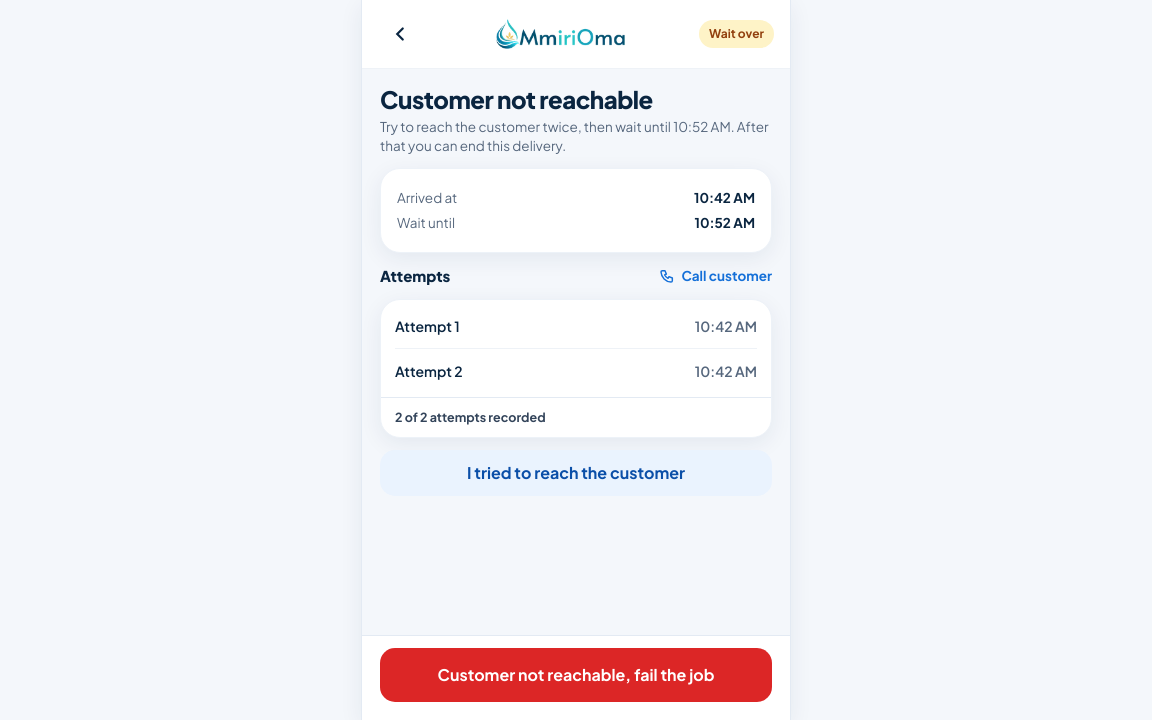
Test: Customer not reachable (U3) › asks before failing, then ends the job on the failed screen
The image size is (1152, 720).
Step 1. Click the button "Customer not reachable, fail the job" → (576, 675), box [380,648,772,702]
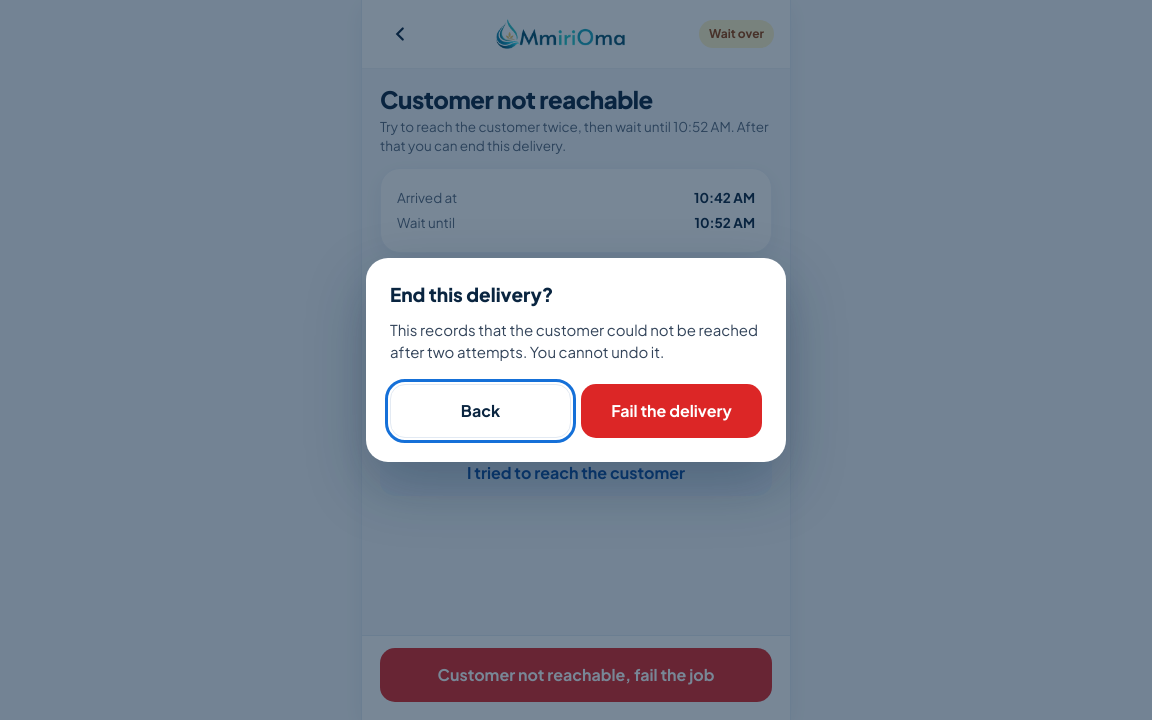
Now the heading "End this delivery?" is shown, box [390,282,554,306]
Step 2. Click the button "Fail the delivery" → (672, 411), box [581,384,762,438]
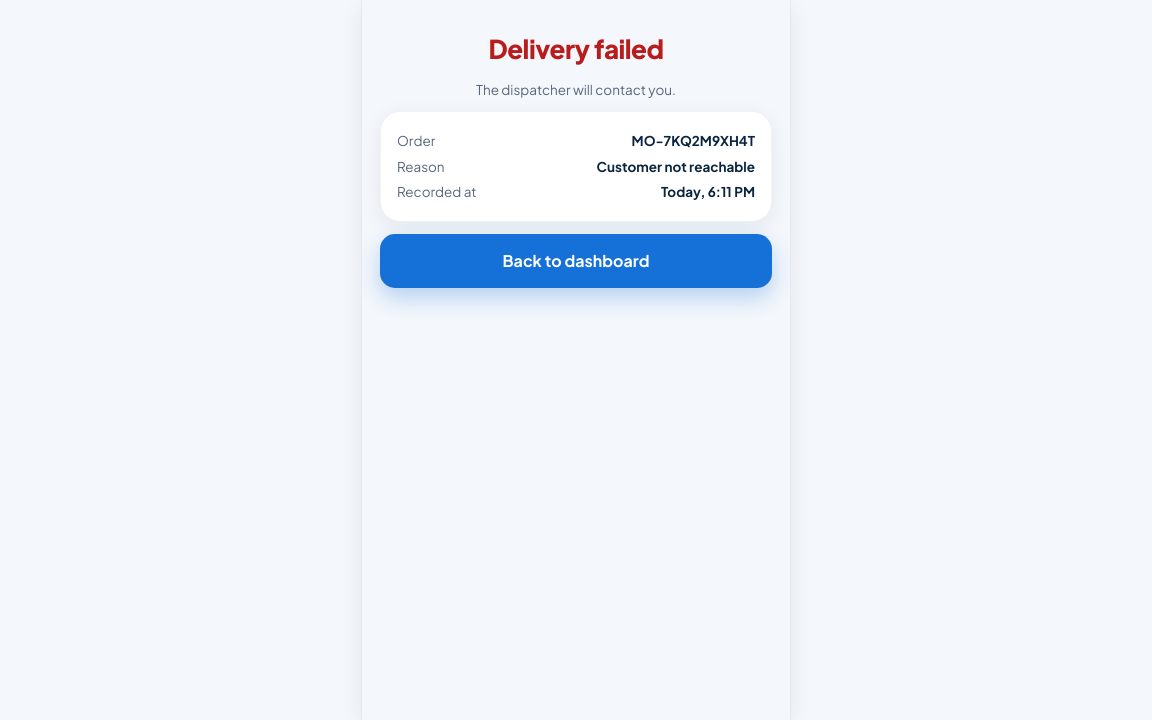
Expected: the text "Customer not reachable" is shown, [597,157,755,176]
Now the heading "Delivery failed" is shown, box [488,30,664,68]
Now the text "The dispatcher will contact you." is shown, box [476,80,676,99]
